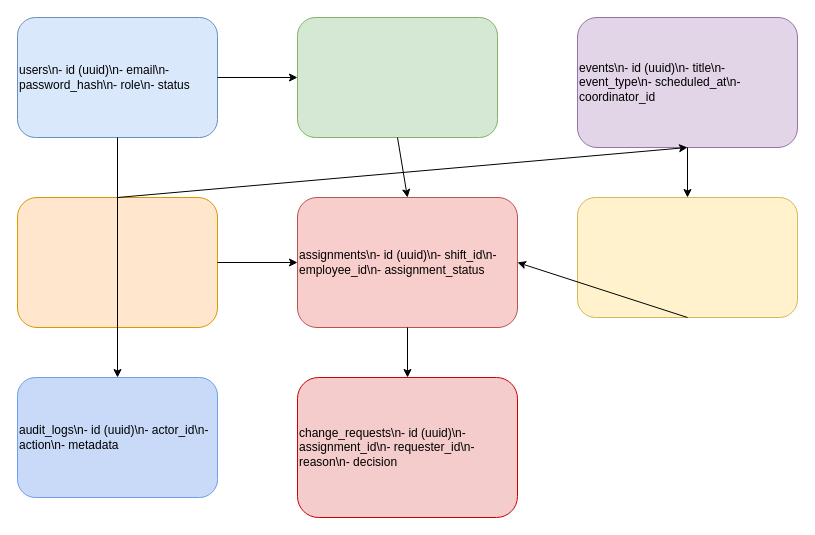
Image size: 815x535. Some labels were removed from this diagram. Here are the shapes that lost their labels. From the top down, the box of each, then its label:
(296, 16, 498, 138): employees\n- id (uuid)\n- full_name\n- skill_level\n- status
(16, 196, 218, 328): shifts\n- id (uuid)\n- shift_date\n- start_time\n- end_time\n- location
(576, 196, 798, 318): event_assignments\n- id (uuid)\n- event_id\n- employee_id\n- role
